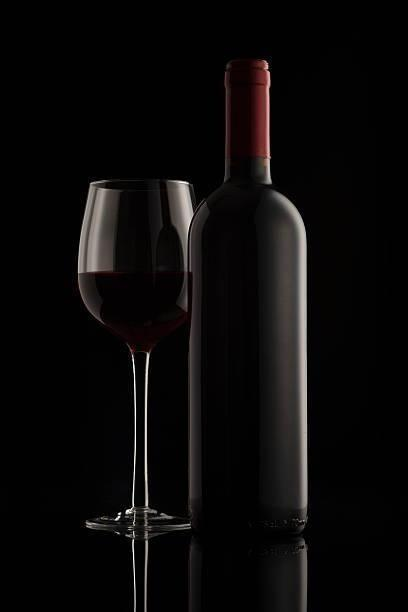bottle-glass: (185, 54, 313, 535)
glass-wine: (75, 175, 199, 537)
